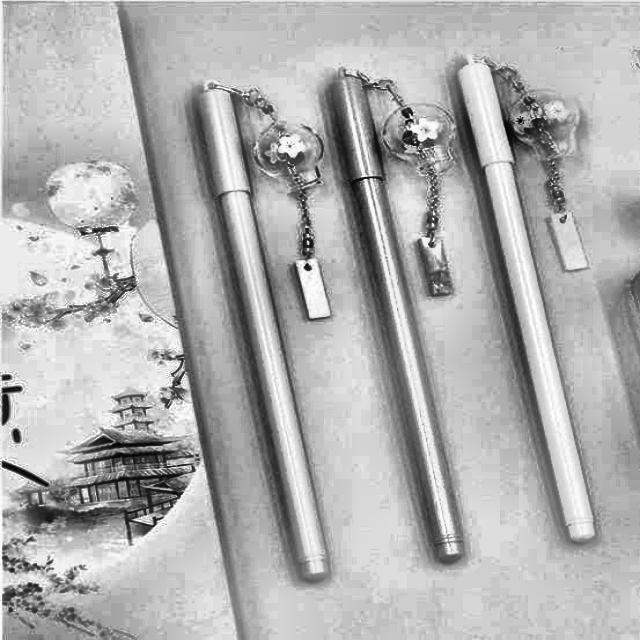Pen: (456, 59, 596, 545), (329, 75, 465, 566), (197, 84, 329, 584)
